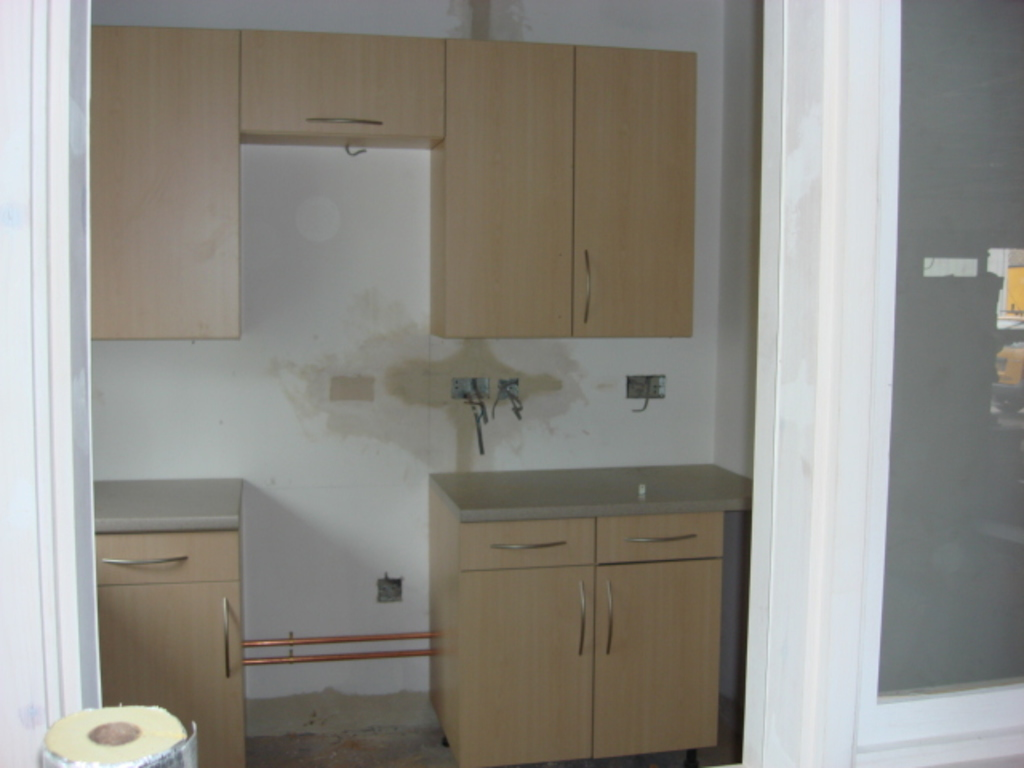cabinet door: (578, 54, 692, 335), (465, 567, 590, 752), (103, 588, 236, 759), (238, 31, 441, 138), (599, 567, 714, 754), (459, 523, 594, 570), (93, 541, 236, 578), (605, 521, 718, 557)
door: (786, 31, 1019, 741)
handle: (100, 548, 189, 572), (494, 537, 566, 559), (314, 109, 385, 131), (578, 252, 596, 330), (572, 577, 590, 653), (602, 581, 619, 656), (630, 527, 697, 546), (216, 594, 232, 671)
